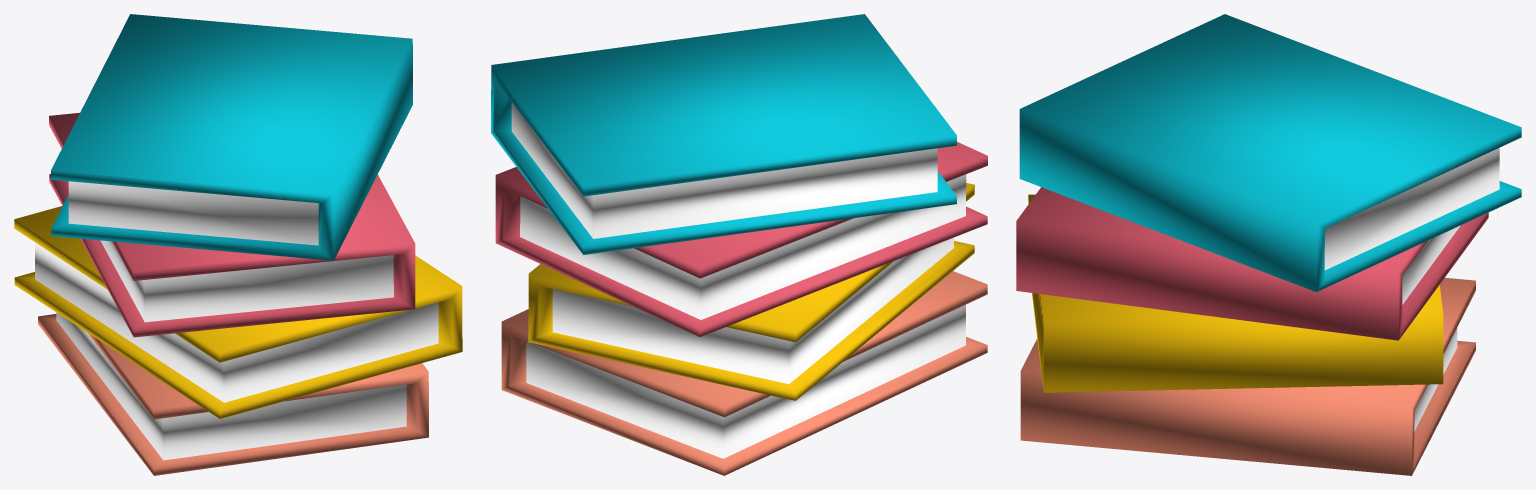
Rendered from BookBunch.fbx.
3 views of the same model, side by side, from view 1: azimuth 30°, elevation 25°; view 2: azimuth 150°, elevation 25°; view 3: azimuth 270°, elevation 25° (orthographic). The views are drawn at different scales.
Visible parts, largest first — view 1: BookBunch; view 2: BookBunch; view 3: BookBunch.
Boxes of the visible parts, x1=… form: BookBunch: x1=14, y1=14, x2=462, y2=475; BookBunch: x1=491, y1=14, x2=987, y2=475; BookBunch: x1=1016, y1=14, x2=1521, y2=475.
Size of the model in its own units: 0.1467 by 0.0924 by 0.1497.
Materials: 1 (1 with a texture image).
